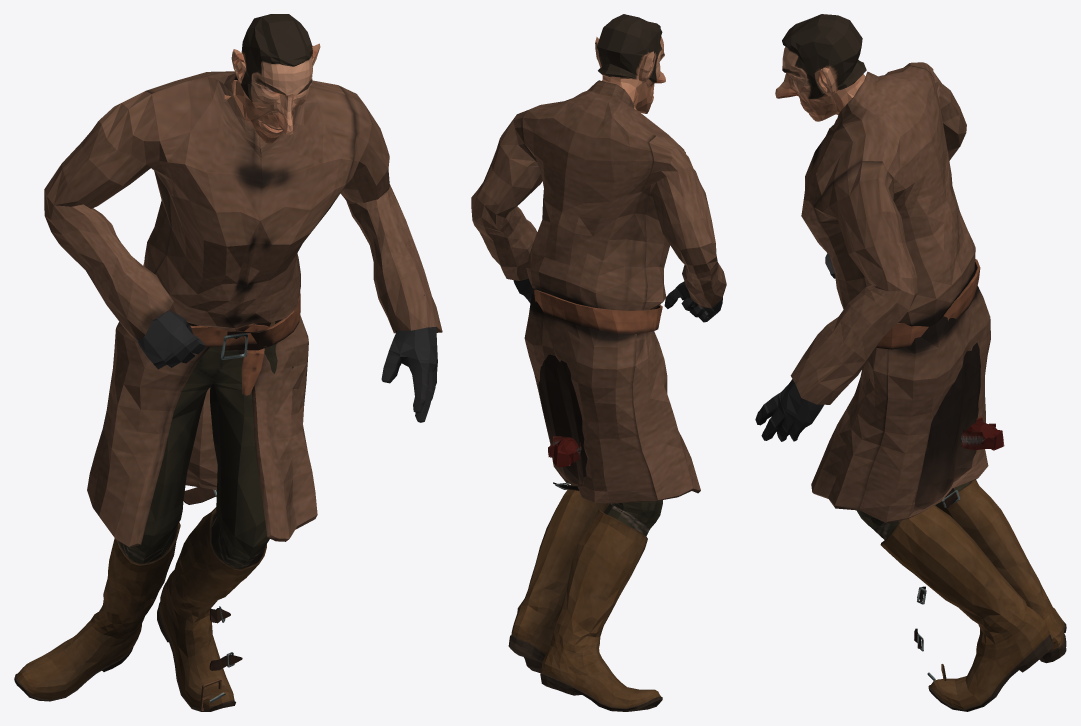
File: sniper-inj-walk_joined_000001.obj
3 renders of one model, left to right at view 1: azimuth 30°, elevation 25°; view 2: azimuth 150°, elevation 25°; view 3: azimuth 270°, elevation 25°, orthographic. The views are drawn at different scales.
Parts seen in each view (by area): view 1: Shoes; view 2: Shoes; view 3: Shoes.
Part boxes in pixels (x1=…): Shoes: x1=14, y1=14, x2=442, y2=711; Shoes: x1=471, y1=14, x2=726, y2=711; Shoes: x1=755, y1=14, x2=1066, y2=711.
Size of the model in its own units: 1.13 by 2.48 by 1.03.
